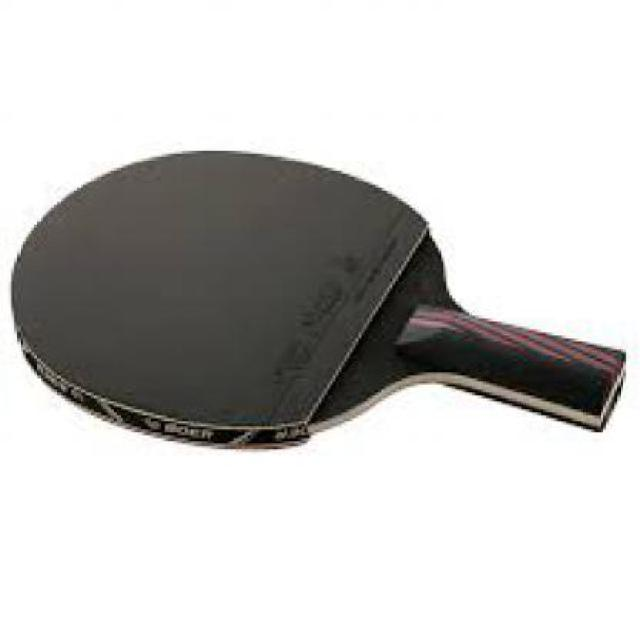table_tennis_racket: (9, 144, 449, 453)
